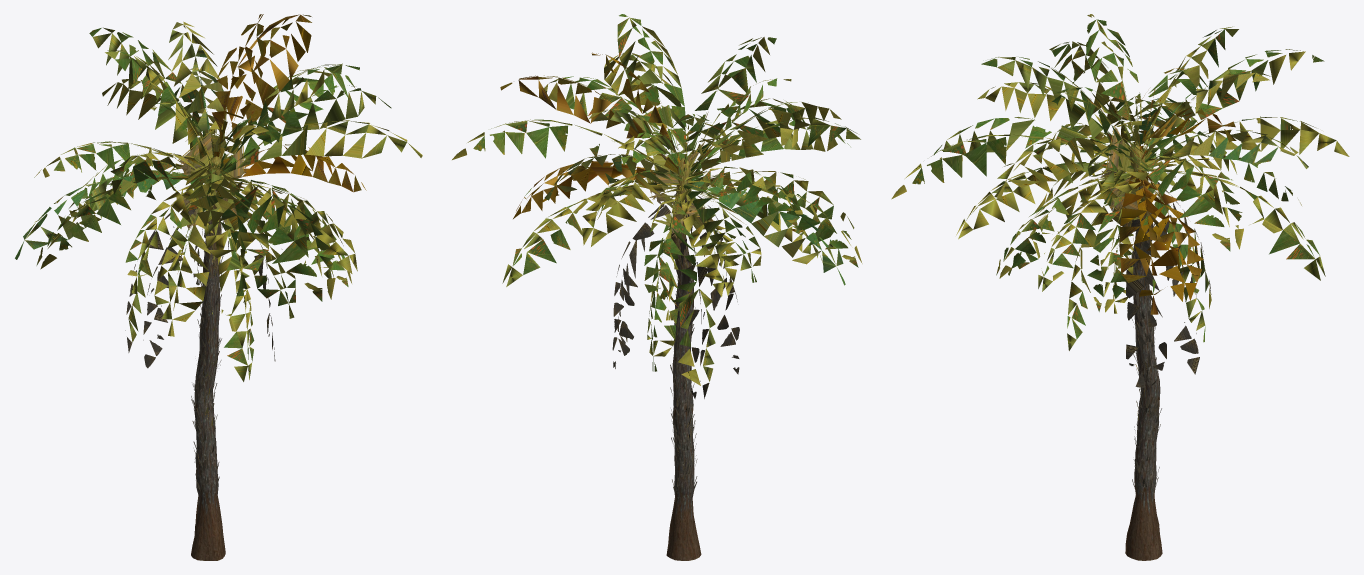
The model's file is Tree - Alien Tree 08-CRFBa-wK.glb.
3 renders of one model, left to right at view 1: azimuth 30°, elevation 25°; view 2: azimuth 150°, elevation 25°; view 3: azimuth 270°, elevation 25°, orthographic. The views are drawn at different scales.
Visible parts, largest first — view 1: Tree_07_1(Clone); view 2: Tree_07_1(Clone); view 3: Tree_07_1(Clone).
Boxes of the visible parts, x1=… form: Tree_07_1(Clone): x1=15, y1=14, x2=422, y2=560; Tree_07_1(Clone): x1=452, y1=14, x2=862, y2=560; Tree_07_1(Clone): x1=891, y1=14, x2=1349, y2=560.
Bounding box in the file's own units: 7.31 × 9.52 × 7.6.
2 materials, 2 textured.
